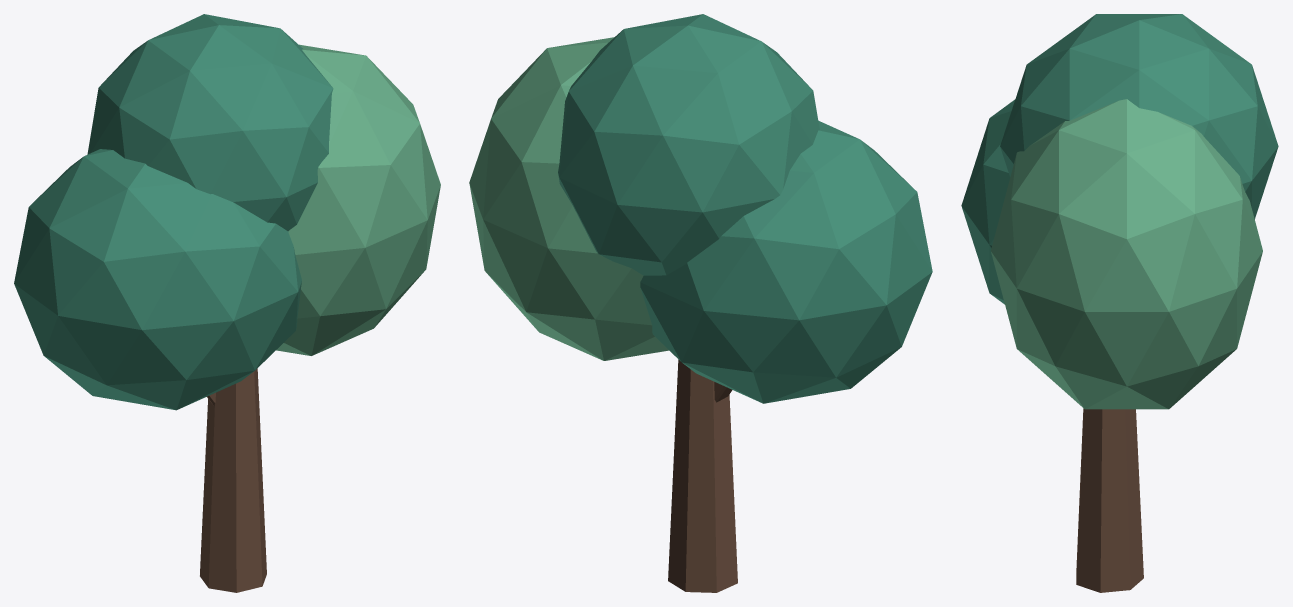
File: broadleaf.glb
3 views of the same model, side by side, from view 1: azimuth 30°, elevation 25°; view 2: azimuth 150°, elevation 25°; view 3: azimuth 270°, elevation 25° (orthographic). The views are drawn at different scales.
Parts seen in each view (by area): view 1: canopy, canopy.002, canopy.001, tree-trunk; view 2: canopy, canopy.002, canopy.001, tree-trunk; view 3: canopy.001, canopy.002, tree-trunk, canopy.
Boxes of the visible parts, <box> form: canopy: <box>14,149,301,410</box>; canopy.002: <box>87,14,333,231</box>; canopy.001: <box>276,44,440,355</box>; tree-trunk: <box>200,368,266,592</box>; canopy: <box>640,120,932,403</box>; canopy.002: <box>558,14,819,275</box>; canopy.001: <box>469,37,668,360</box>; tree-trunk: <box>668,359,737,592</box>; canopy.001: <box>991,99,1262,409</box>; canopy.002: <box>1000,14,1278,219</box>; tree-trunk: <box>1076,408,1143,592</box>; canopy: <box>961,99,1015,304</box>.
Size of the model in its own units: 3.02 by 3.98 by 2.05.
